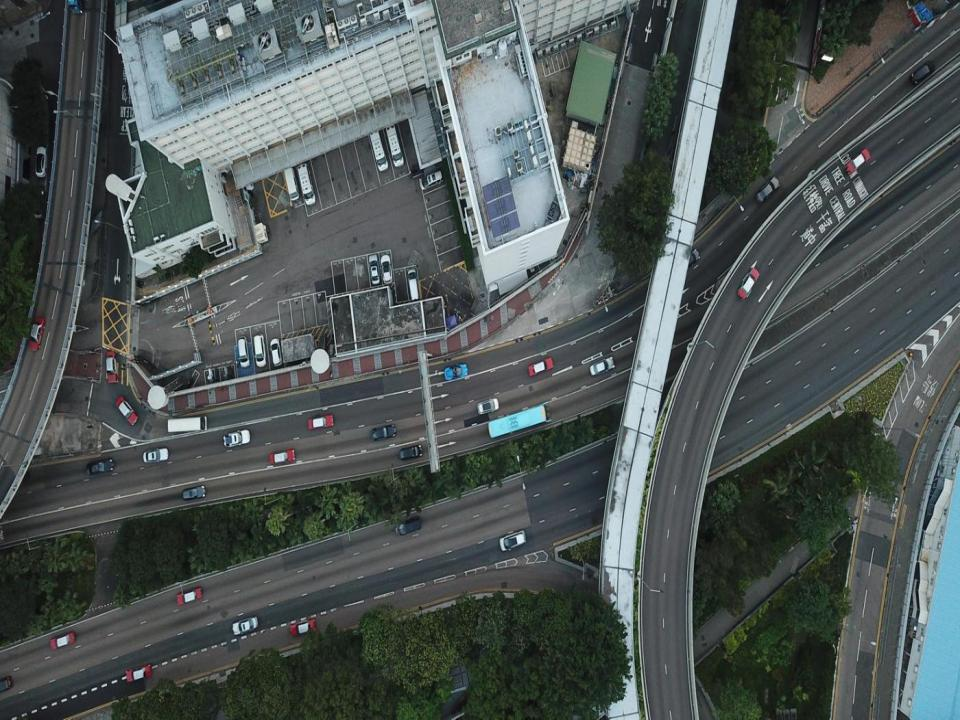bus: (486, 404, 554, 439), (166, 415, 208, 432), (64, 0, 85, 15)
car: (114, 395, 140, 426), (845, 148, 872, 174), (738, 265, 758, 300), (498, 530, 528, 552), (909, 62, 936, 86), (675, 246, 703, 268), (378, 249, 394, 286), (222, 430, 252, 449), (28, 318, 44, 352), (368, 424, 398, 442), (104, 350, 119, 384), (176, 587, 204, 605), (528, 356, 553, 376), (268, 336, 283, 368), (124, 664, 152, 681), (366, 253, 380, 287), (589, 356, 614, 375), (397, 442, 423, 460), (232, 617, 258, 635), (48, 634, 75, 651), (36, 143, 48, 180), (289, 620, 316, 636), (307, 414, 333, 430), (268, 450, 296, 464), (444, 363, 468, 379), (141, 448, 170, 461), (477, 398, 501, 413), (182, 486, 205, 501), (0, 675, 14, 692)
van: (295, 162, 317, 202), (385, 122, 404, 166), (370, 129, 388, 172), (755, 175, 780, 201), (282, 165, 299, 203), (395, 517, 422, 536), (84, 458, 116, 474), (253, 332, 267, 366), (420, 170, 442, 191), (237, 336, 250, 368), (407, 266, 418, 302)
